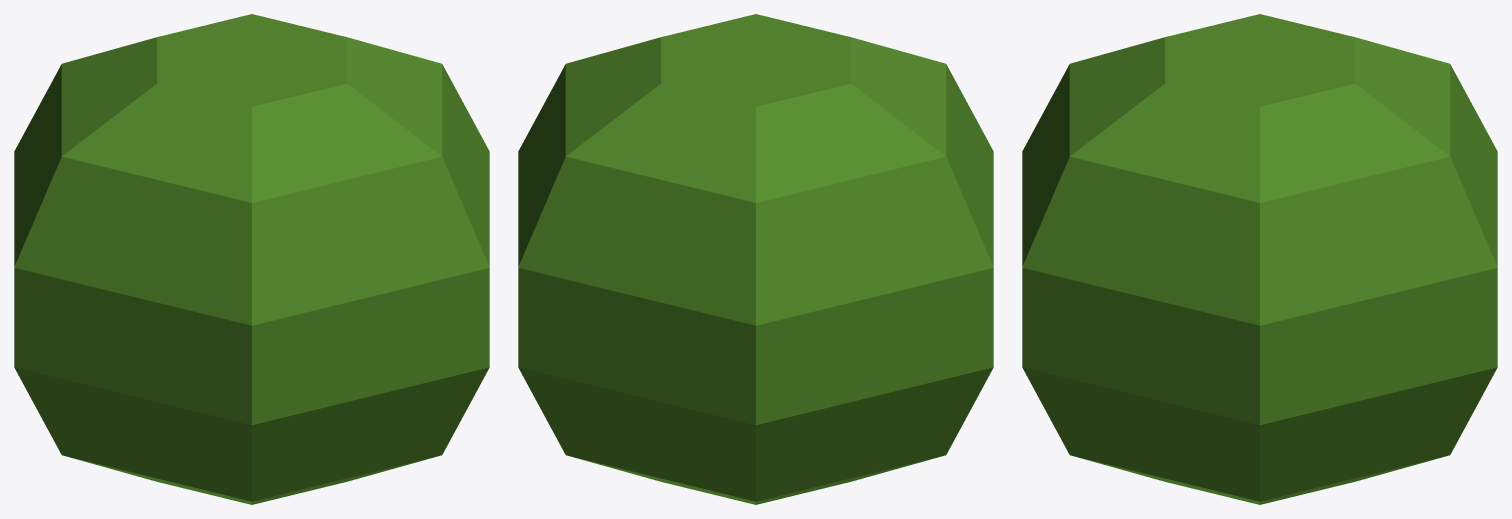
Rendered from Hilly_Prop_Bush_1.obj.
3 renders of one model, left to right at view 1: azimuth 30°, elevation 25°; view 2: azimuth 150°, elevation 25°; view 3: azimuth 270°, elevation 25°, orthographic.
Parts seen in each view (by area): view 1: object1; view 2: object1; view 3: object1.
Boxes of the visible parts, x1,y1,x2,y2 form: object1: [14, 14, 489, 504]; object1: [518, 14, 993, 504]; object1: [1022, 14, 1497, 504].
Bounding box in the file's own units: 1 × 0.8 × 0.866.
